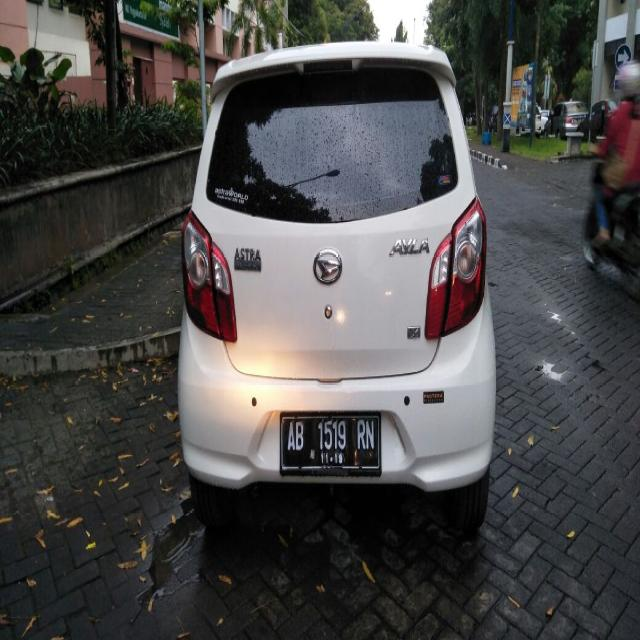plate: (278, 406, 381, 475)
